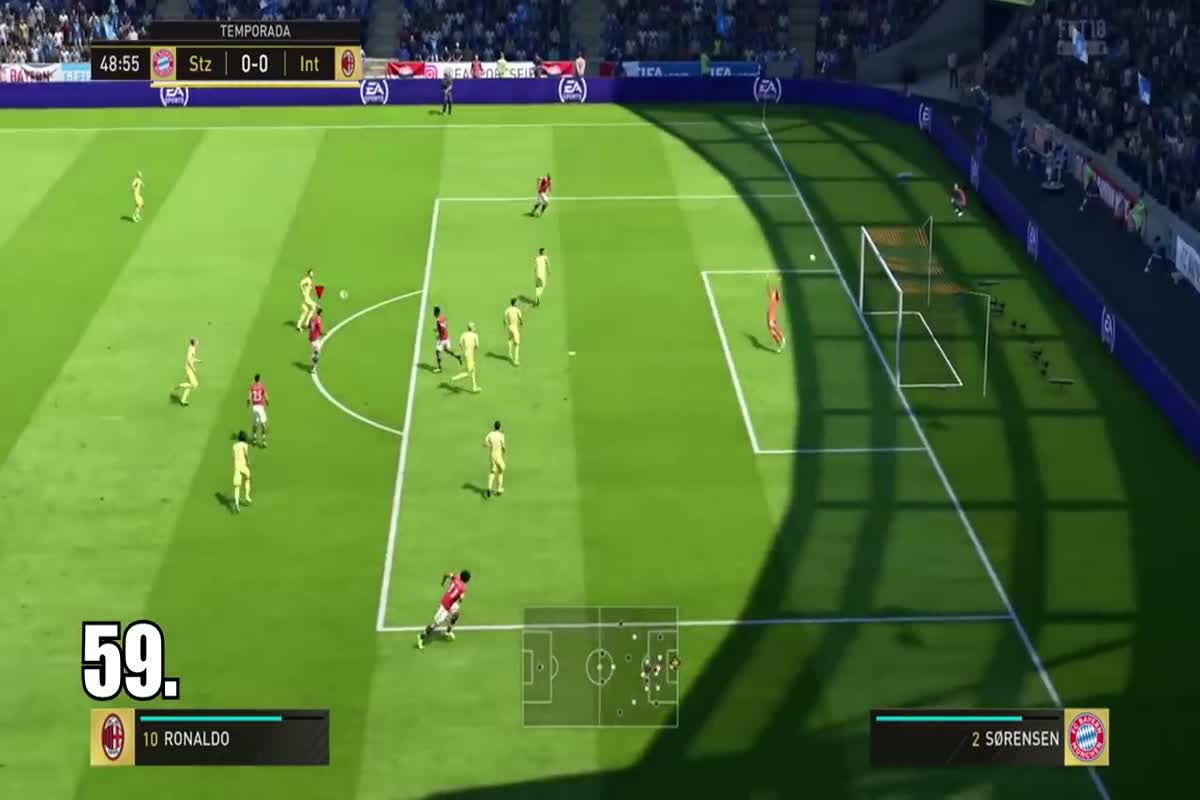ball: (802, 249, 827, 265)
